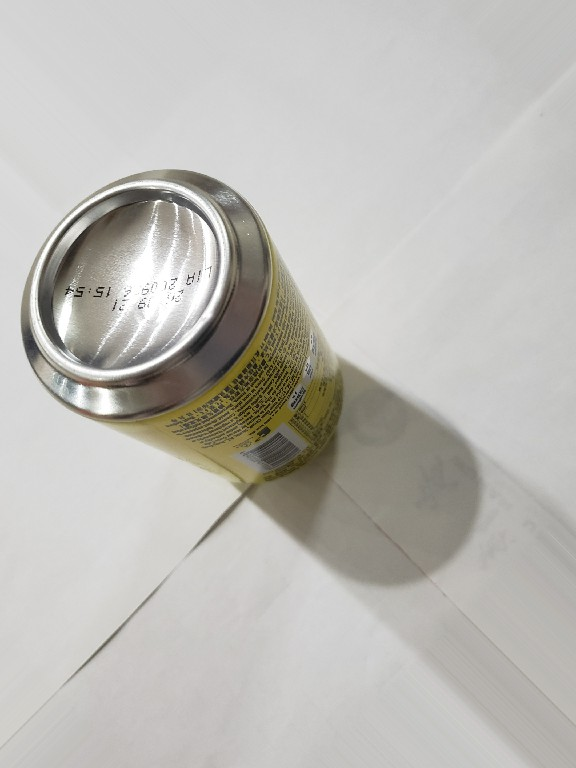can: (18, 163, 347, 496)
